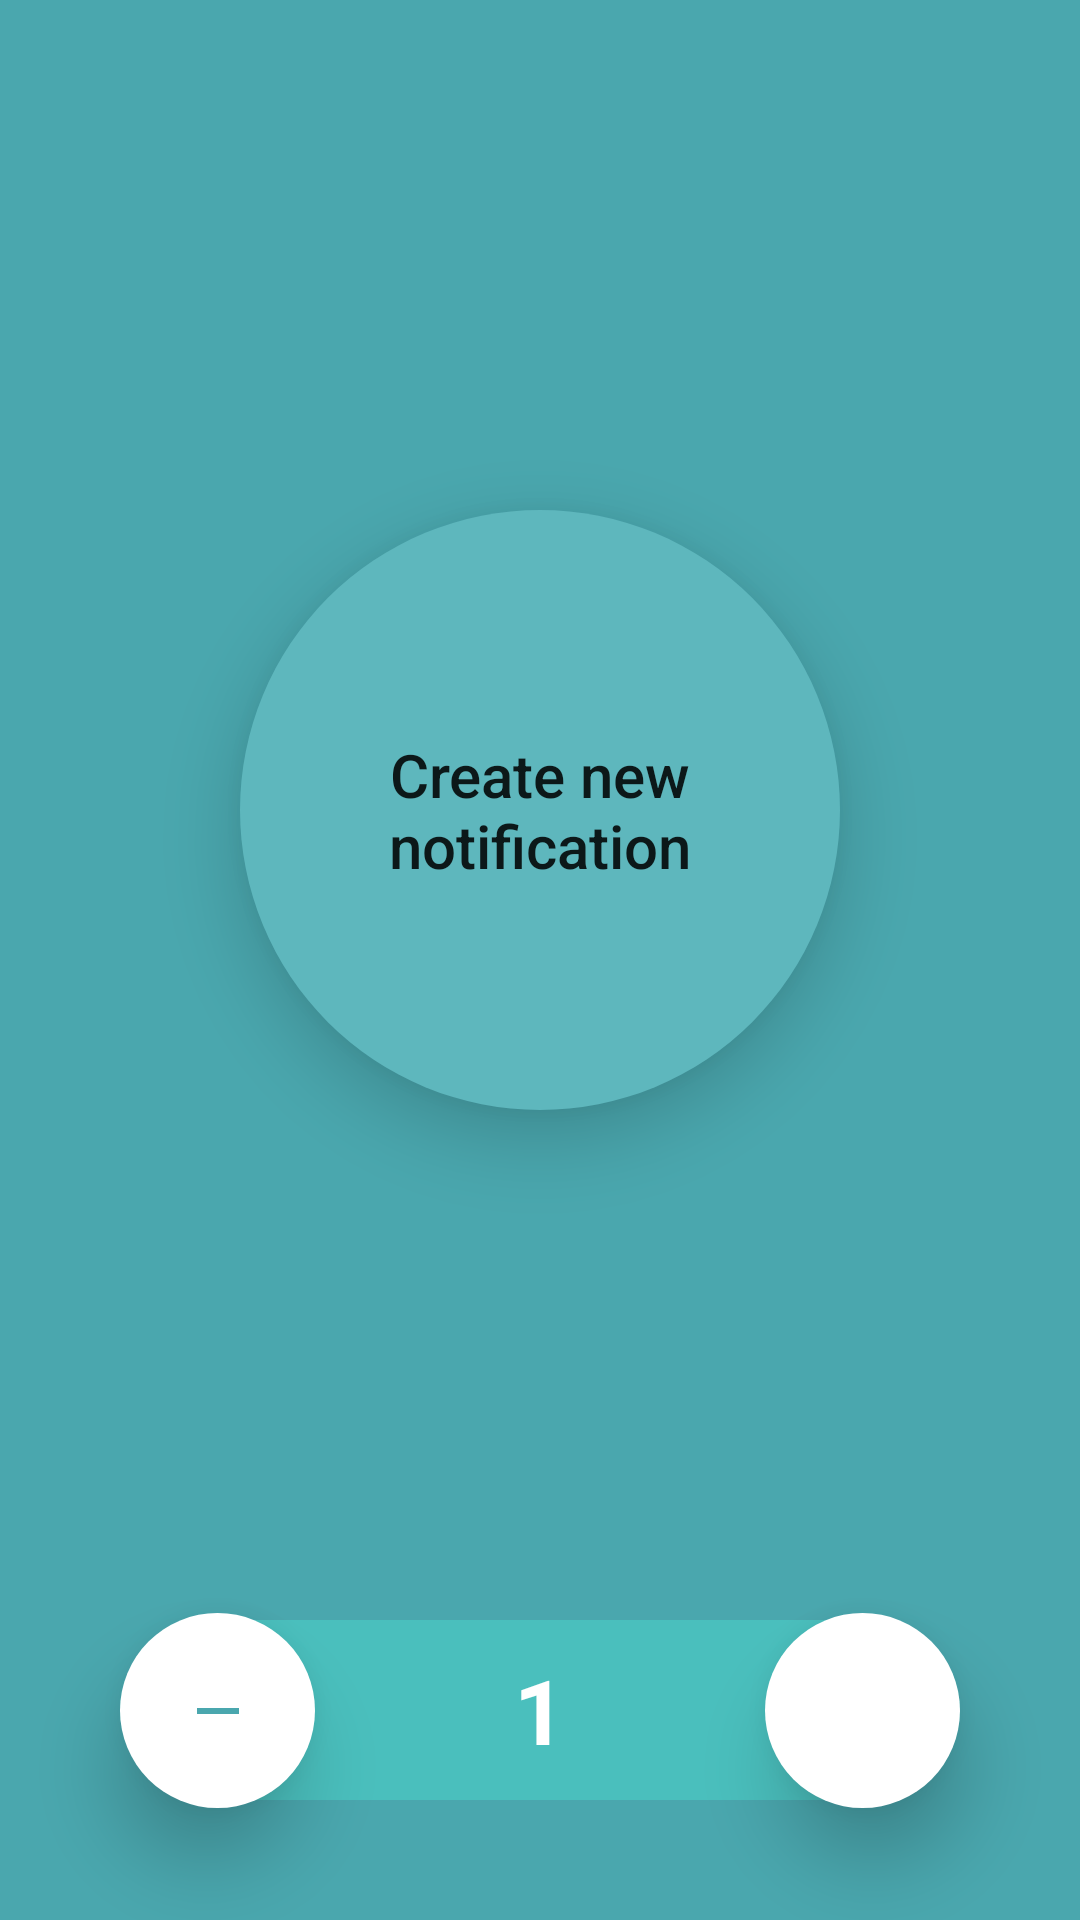

Named icons in this screenshot (1080 x 1920) and their bounding boxes, (x1, y1, x2, y2):
remove: (120, 1613, 315, 1808)
